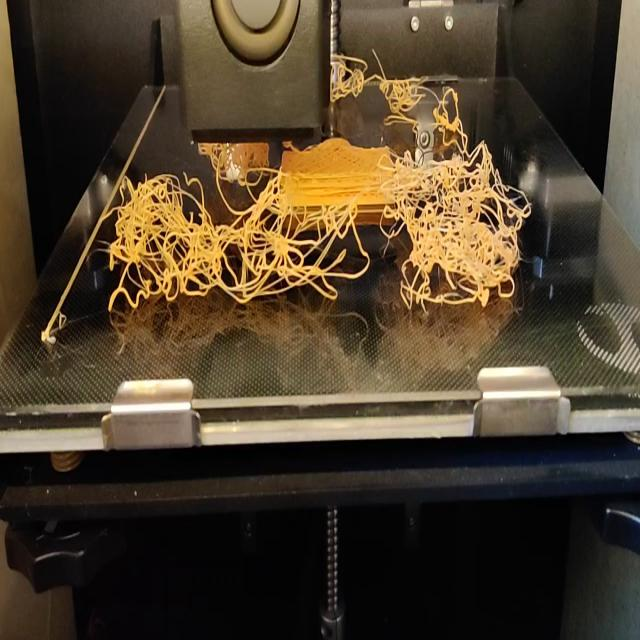spaghetti: (99, 136, 533, 316), (330, 38, 466, 134)
